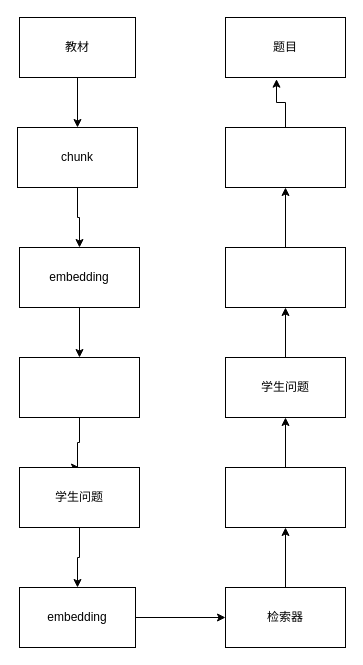
Some shapes in this 363 by 665 pixel diagram are drawn without their labels. Here are the shapes that lost their labels. From the top down, the centre of each, then its label:
(285,157): 模型
(285,277): prompt
(79,387): database
(285,497): 相关chunk
